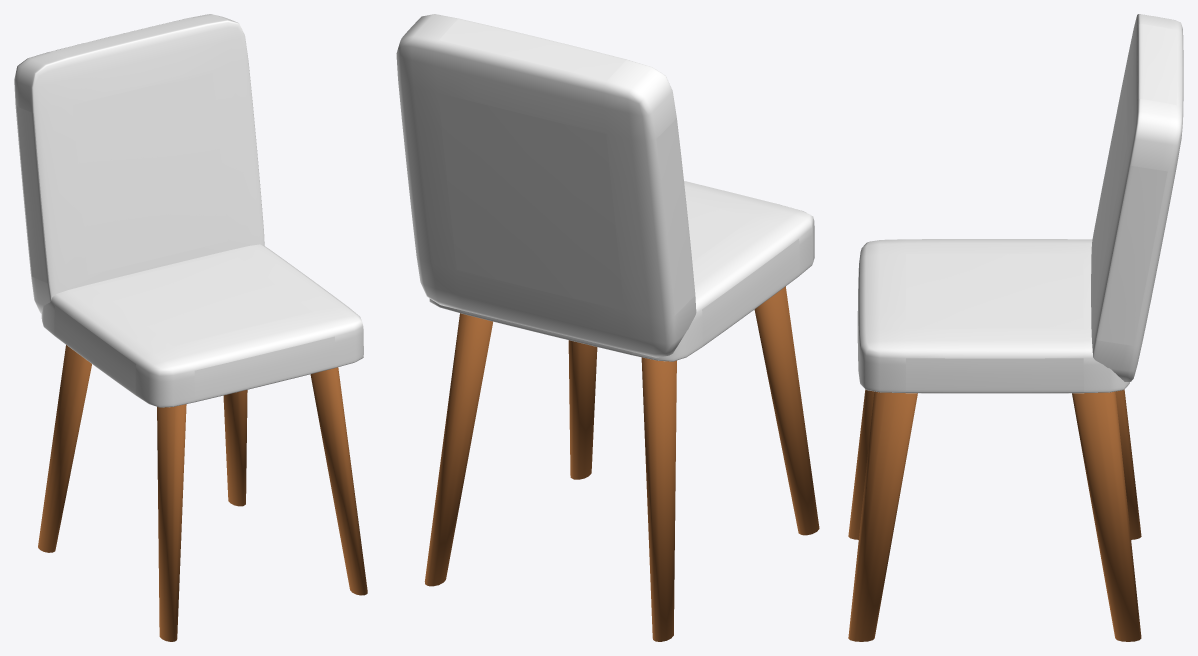
Rendered from chair.fbx.
3 renders of one model, left to right at view 1: azimuth 30°, elevation 25°; view 2: azimuth 150°, elevation 25°; view 3: azimuth 270°, elevation 25°, orthographic. The views are drawn at different scales.
Visible parts, largest first — view 1: Plane.001; view 2: Plane.001; view 3: Plane.001.
Boxes of the visible parts, x1,y1,x2,y2 form: Plane.001: (14, 14, 367, 641); Plane.001: (396, 14, 819, 641); Plane.001: (848, 14, 1183, 641).
Size of the model in its own units: 1.62 by 3.42 by 1.98.
